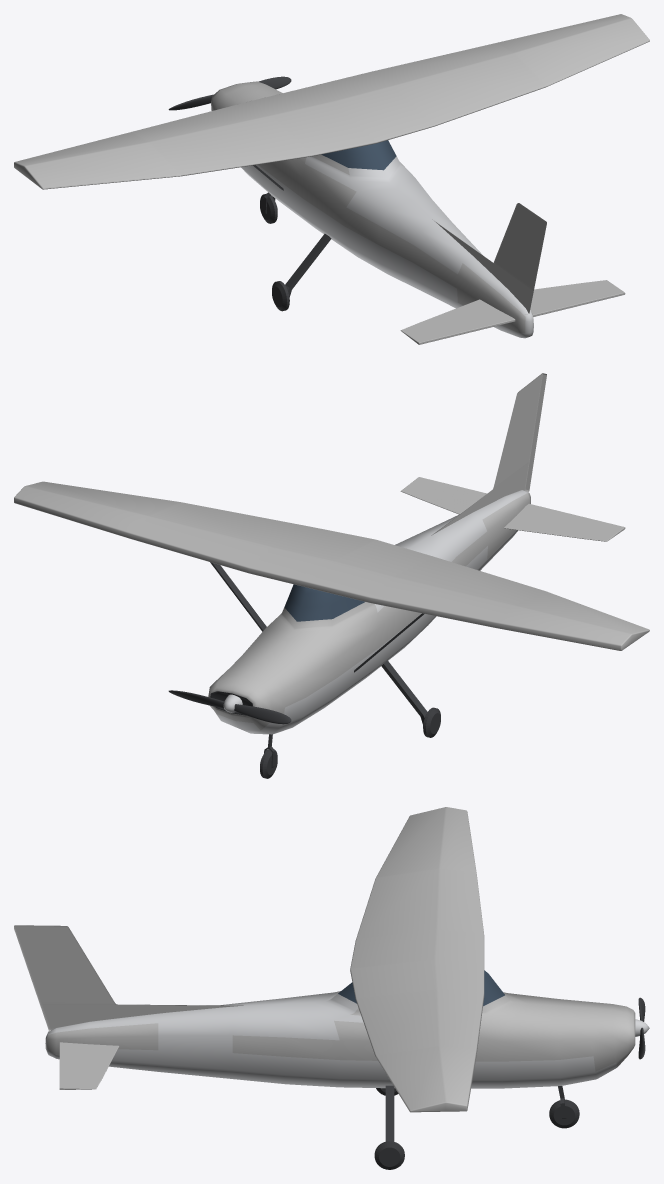
3 views of the same model, one above another, from view 1: azimuth 30°, elevation 25°; view 2: azimuth 150°, elevation 25°; view 3: azimuth 270°, elevation 25° (orthographic).
Parts seen in each view (by area): view 1: Body, Prop; view 2: Body, Prop; view 3: Body.
Part boxes in pixels (x1=…): Body: x1=14, y1=14, x2=649, y2=344; Prop: x1=168, y1=76, x2=291, y2=110; Body: x1=14, y1=373, x2=649, y2=778; Prop: x1=168, y1=690, x2=291, y2=724; Body: x1=14, y1=807, x2=635, y2=1169.
Size of the model in its own units: 10.56 by 3.44 by 9.6.
